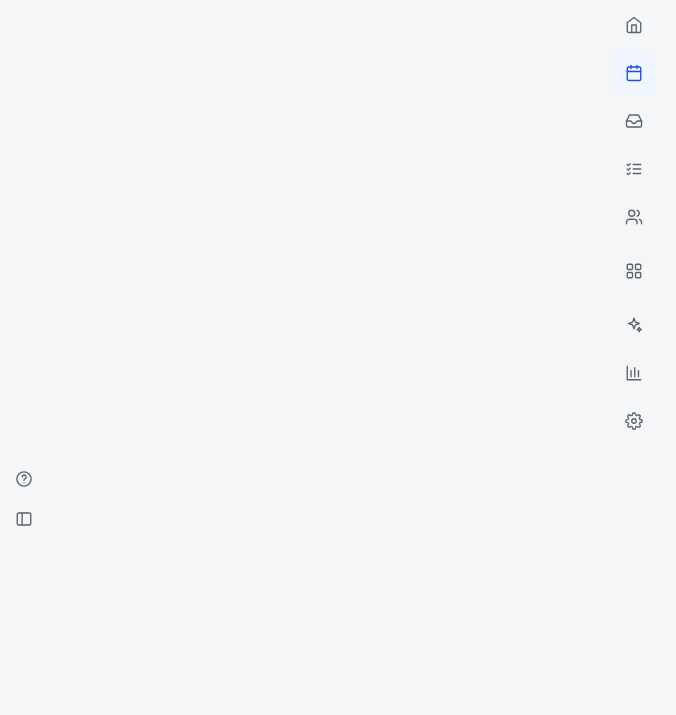
Test: Etapa A — sidebar por seções › DS 1.0 §15 — o grupo abre o PAINEL LATERAL (nunca uma segunda coluna empurrando o conteúdo)
The image size is (676, 715).
Click the button named "Clínica". click: coordinates (634, 271)
box: x1=612 y1=249 x2=656 y2=293
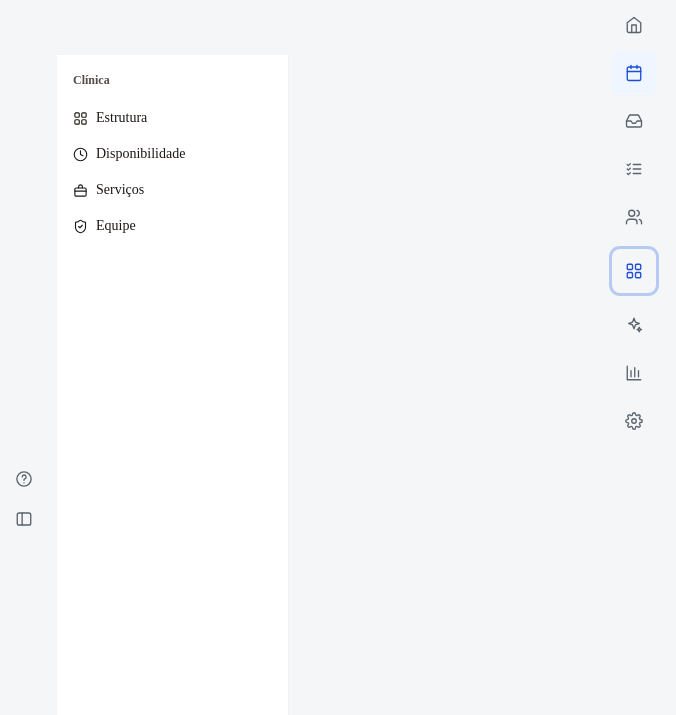
Expected: the number of links is 5, x1=625 y1=16 x2=643 y2=34; x1=612 y1=51 x2=656 y2=95; x1=625 y1=112 x2=643 y2=130; x1=625 y1=160 x2=643 y2=178; x1=625 y1=208 x2=643 y2=226
Expected: the menu item "Serviços" is shown, x1=73 y1=182 x2=144 y2=198
